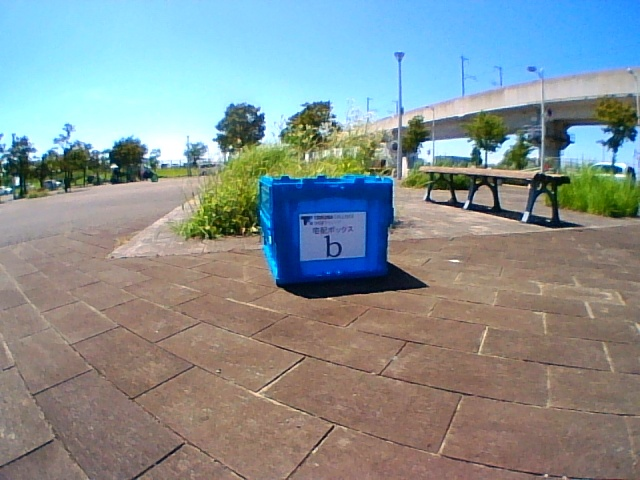blue_box: (260, 176, 386, 272)
tag_b: (300, 215, 365, 257)
